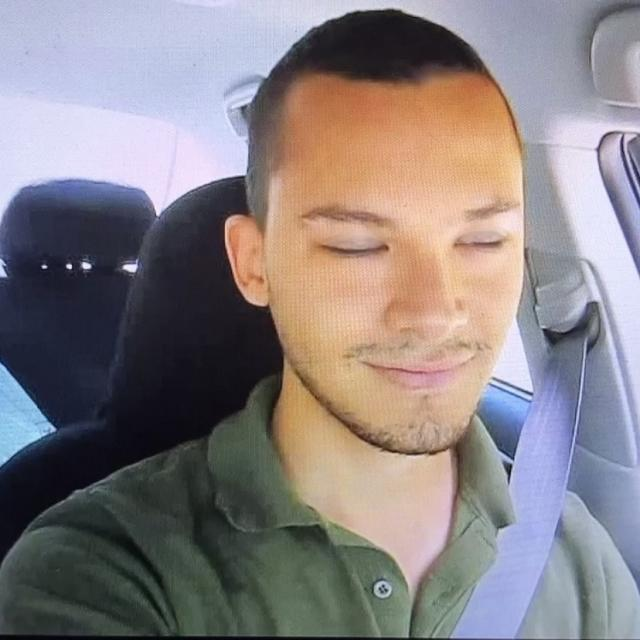no-seatbelt: (289, 204, 528, 269)
